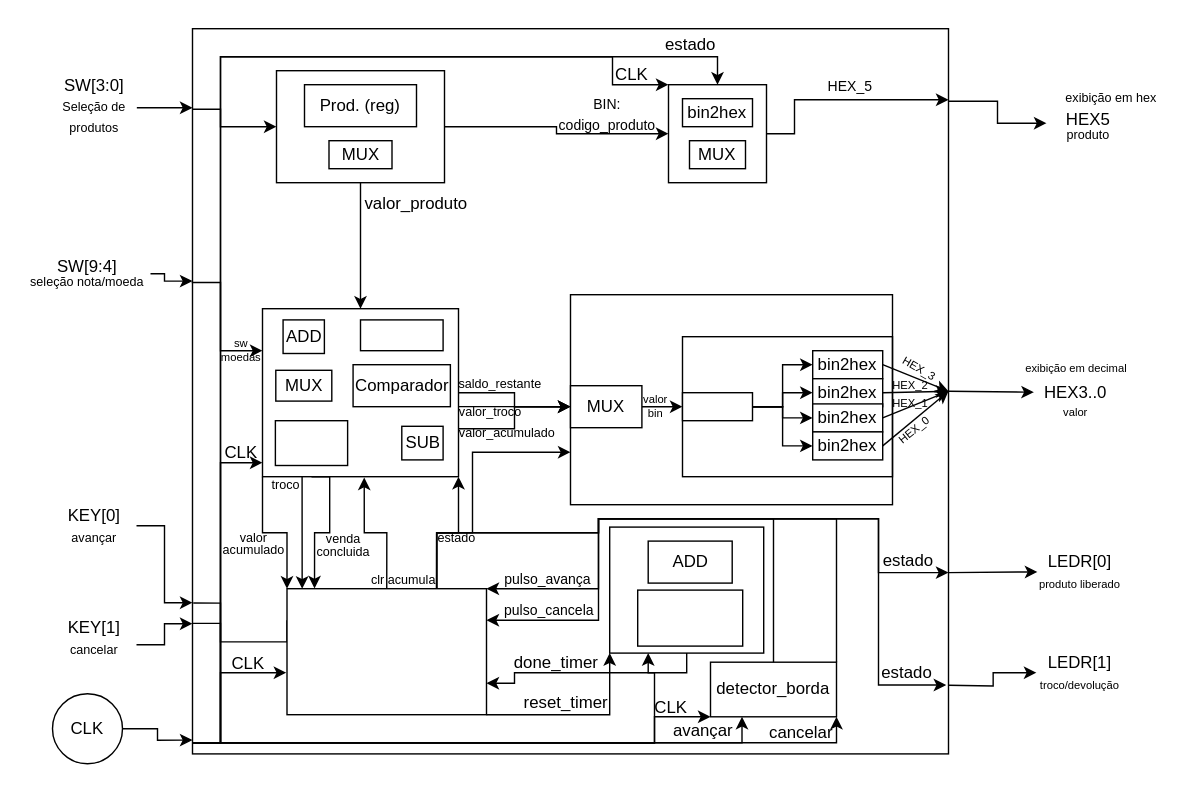
Some shapes in this 1191 by 788 pixel diagram are drawn without their labels. Each missing label, with the centre of its shape:
"bin2bcd" goes at point 716,406.
"Counter (reg)" goes at point 689,617.
"Máquina de controle" goes at point 386,651.
"Pago (reg)" goes at point 311,442.
"Valor(reg)" goes at point 401,334.
